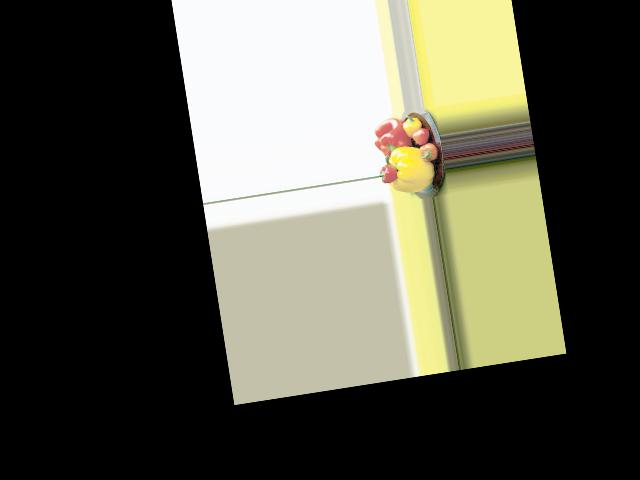bell_pepper: (401, 114, 422, 136)
